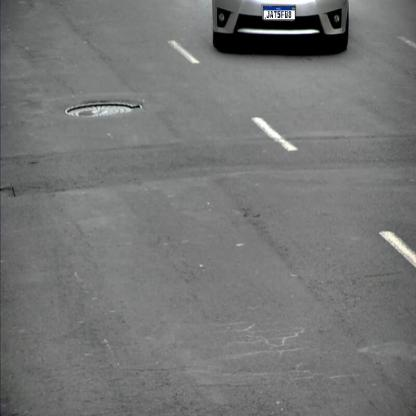PlacaM: (263, 6, 295, 20)
